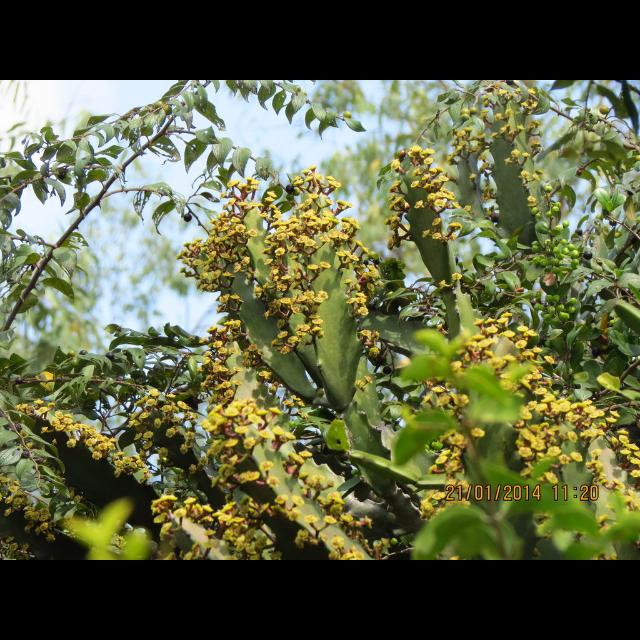Flower: (1, 140, 640, 560)
